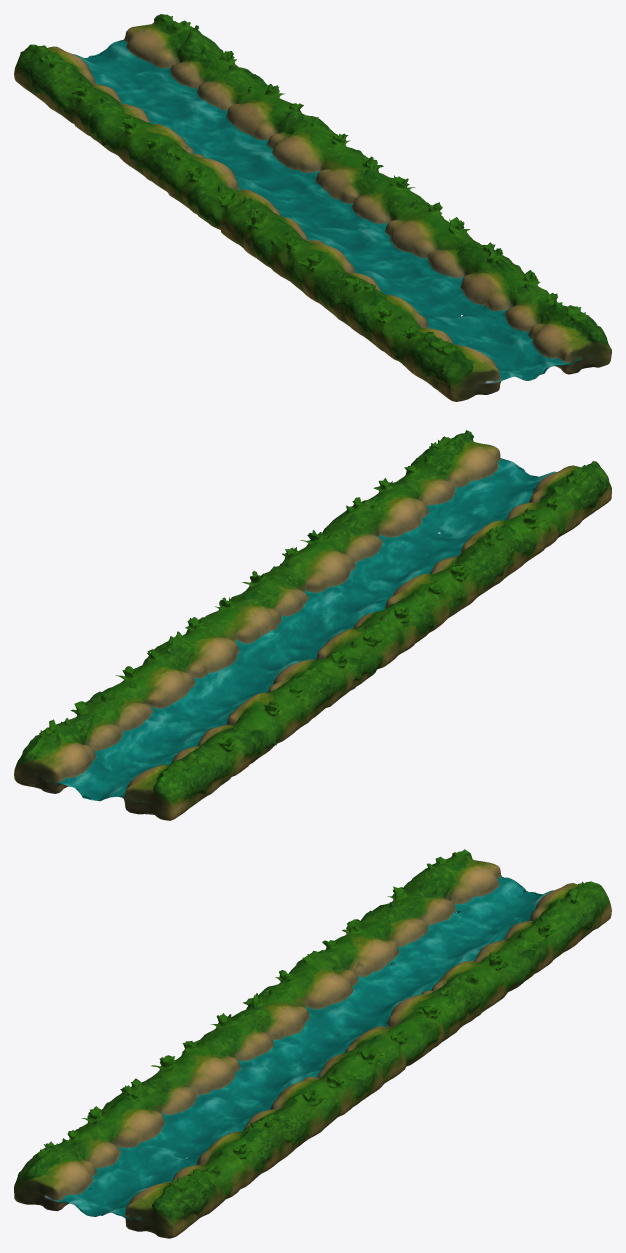
Rendered from creek-open-segment-v2.glb.
3 renders of one model, top to bottom at view 1: azimuth 30°, elevation 25°; view 2: azimuth 150°, elevation 25°; view 3: azimuth 330°, elevation 25°, orthographic.
Bounding box in the file's own units: 0.2255 × 0.0566 × 0.995.
1 material, 1 textured.
